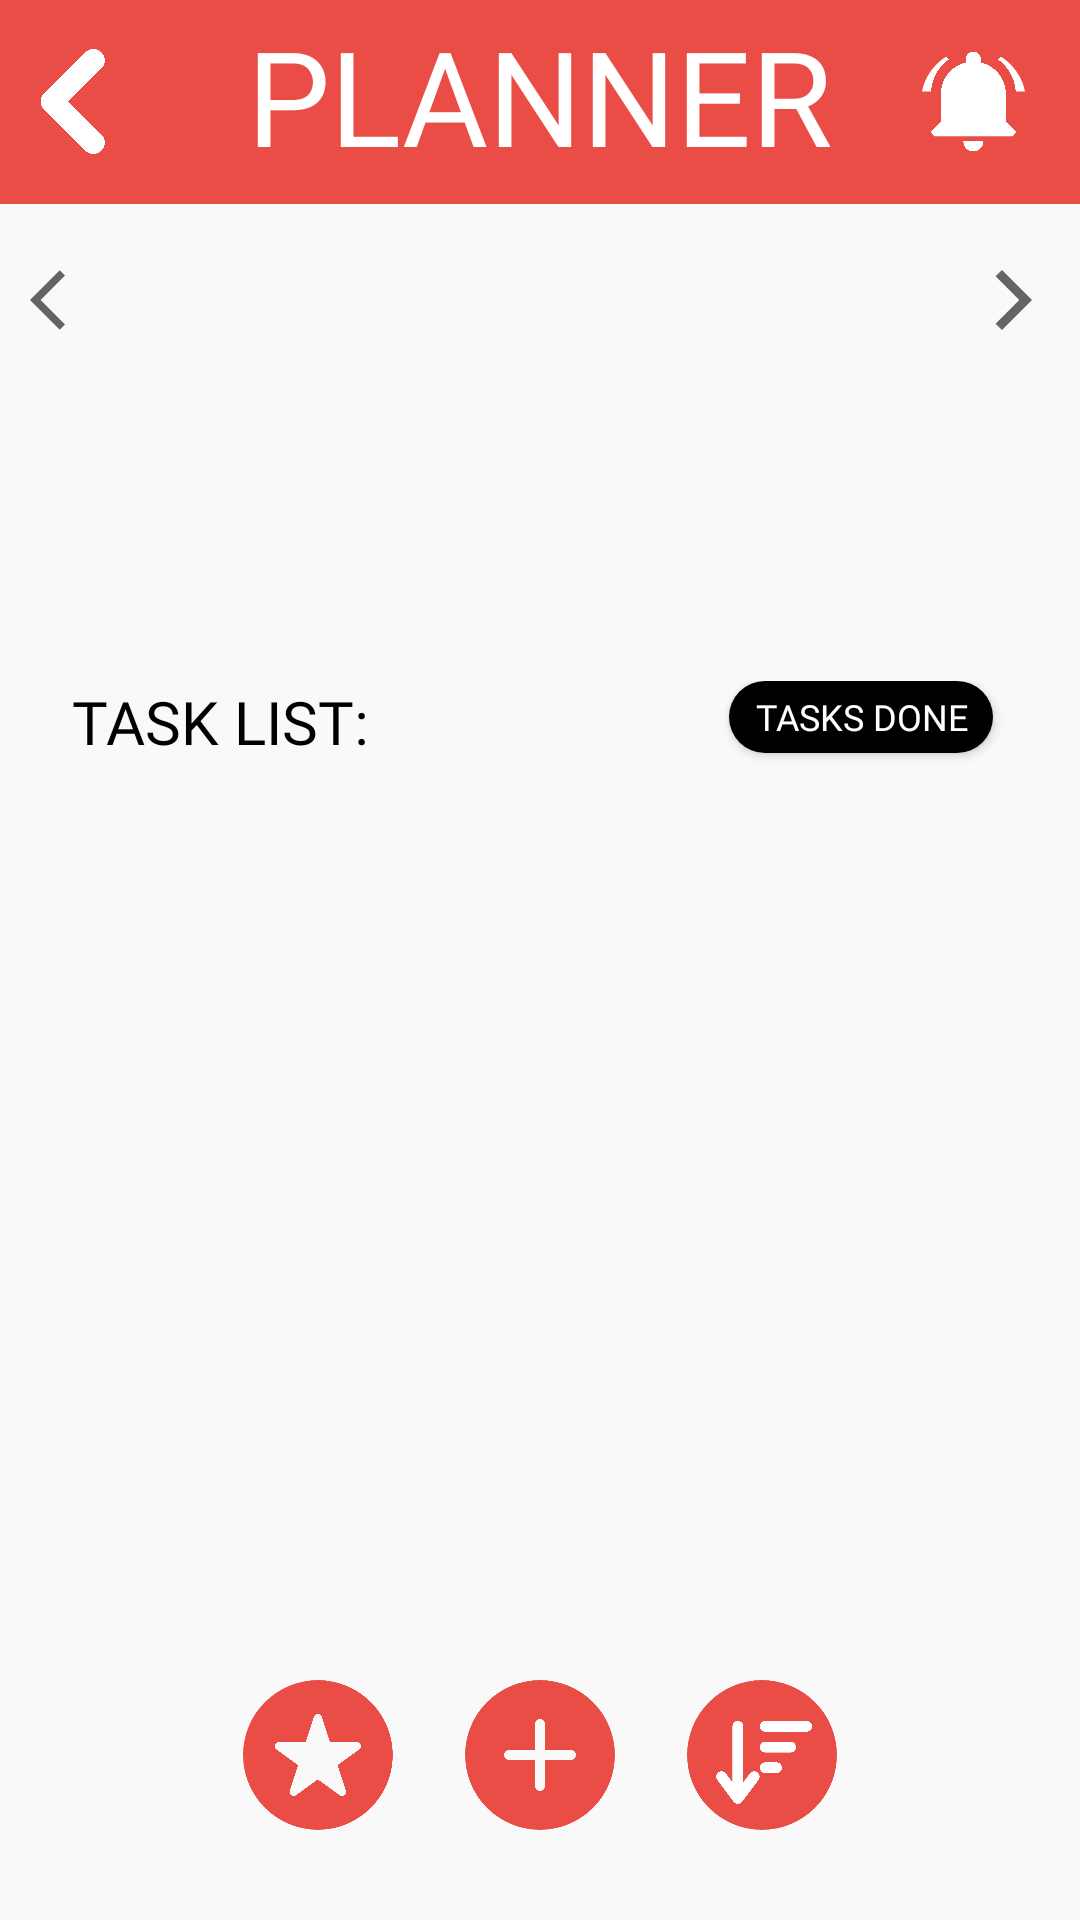

Screen size 1080×1920. Icon name, then its box in pixels as [x1,y1,x2,y2]:
back: [41,49,105,154]
create: [465,1680,615,1830]
Next: [996,270,1032,330]
notif: [922,52,1025,151]
Previous: [30,270,65,330]
sort: [687,1680,837,1830]
